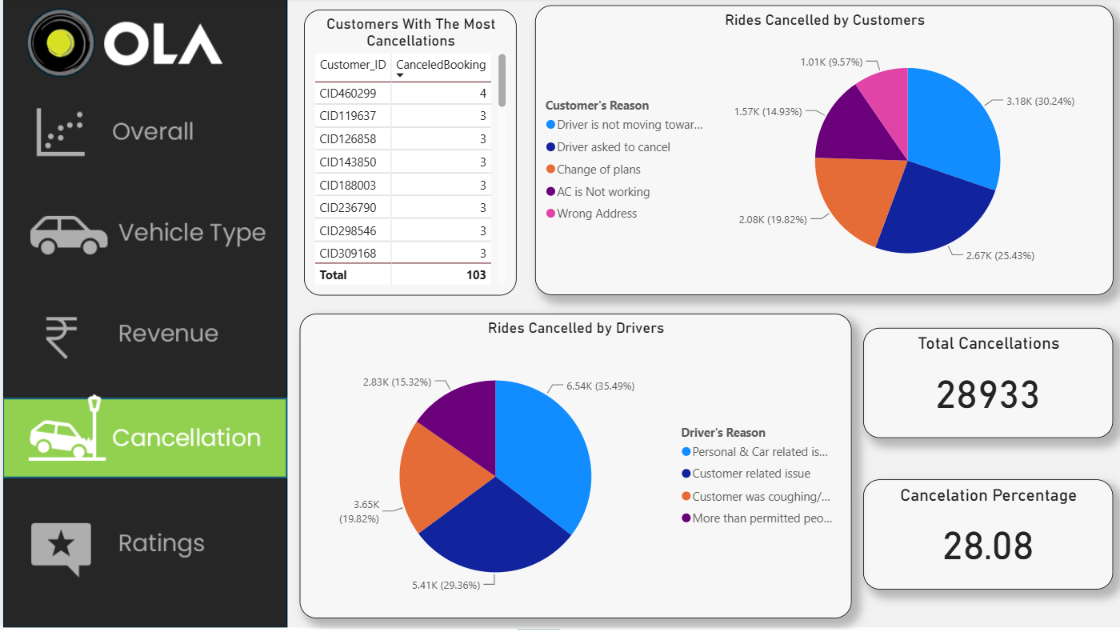

What the dashboard file says about the page in this screenshot:
{"tool":"powerbi","page":{"name":"Cancellations","canvas":[1280,720],"ordinal":3},"visuals":[{"type":"actionButton","box":[0,580.4,323.2,91.6],"z":0},{"type":"actionButton","box":[0,224.7,323.2,90.7],"z":1000},{"type":"actionButton","box":[0,340,325.2,92.6],"z":2000},{"type":"actionButton","box":[0,449.3,323.2,92.6],"z":3000},{"type":"actionButton","box":[0,112.3,323.2,82.8],"z":4000},{"type":"pieChart","title":"Rides Cancelled by Drivers","fields":{"Category":["OlaData.Canceled_Rides_by_Driver"],"Y":["CountNonNull(OlaData.Canceled_Rides_by_Driver)"]},"box":[337.9,360.6,628.8,347],"z":5000},{"type":"pieChart","title":"Rides Cancelled by Customers","fields":{"Category":["OlaData.Canceled_Rides_by_Customer"],"Y":["CountNonNull(OlaData.Canceled_Rides_by_Customer)"]},"box":[606.1,9.1,659.1,330.3],"z":6000},{"type":"card","title":"Cancelation Percentage","fields":{"Values":["OlaData.CanceledPercentage"]},"box":[980.3,548.5,284.8,125.8],"z":7000},{"type":"card","title":"Total Cancellations","fields":{"Values":["OlaData.CanceledBooking"]},"box":[980.3,375.8,284.8,125.8],"z":8000},{"type":"tableEx","title":"Customers With The Most Cancellations","fields":{"Values":["OlaData.Customer_ID","OlaData.CanceledBooking"]},"box":[342.4,13.6,242.4,325.8],"z":8001}]}

Visuals, with their boxes on the page's 1280x720 design canvas (x1, y1, x2, y2). These are canvas units, not pixel positions in the 1120x630 screenshot, which may show the page scaled, cropped or inside an application window:
actionButton: x1=0, y1=580, x2=323, y2=672
actionButton: x1=0, y1=225, x2=323, y2=315
actionButton: x1=0, y1=340, x2=325, y2=433
actionButton: x1=0, y1=449, x2=323, y2=542
actionButton: x1=0, y1=112, x2=323, y2=195
"Rides Cancelled by Drivers" pieChart: x1=338, y1=361, x2=967, y2=708
"Rides Cancelled by Customers" pieChart: x1=606, y1=9, x2=1265, y2=339
"Cancelation Percentage" card: x1=980, y1=548, x2=1265, y2=674
"Total Cancellations" card: x1=980, y1=376, x2=1265, y2=502
"Customers With The Most Cancellations" tableEx: x1=342, y1=14, x2=585, y2=339
